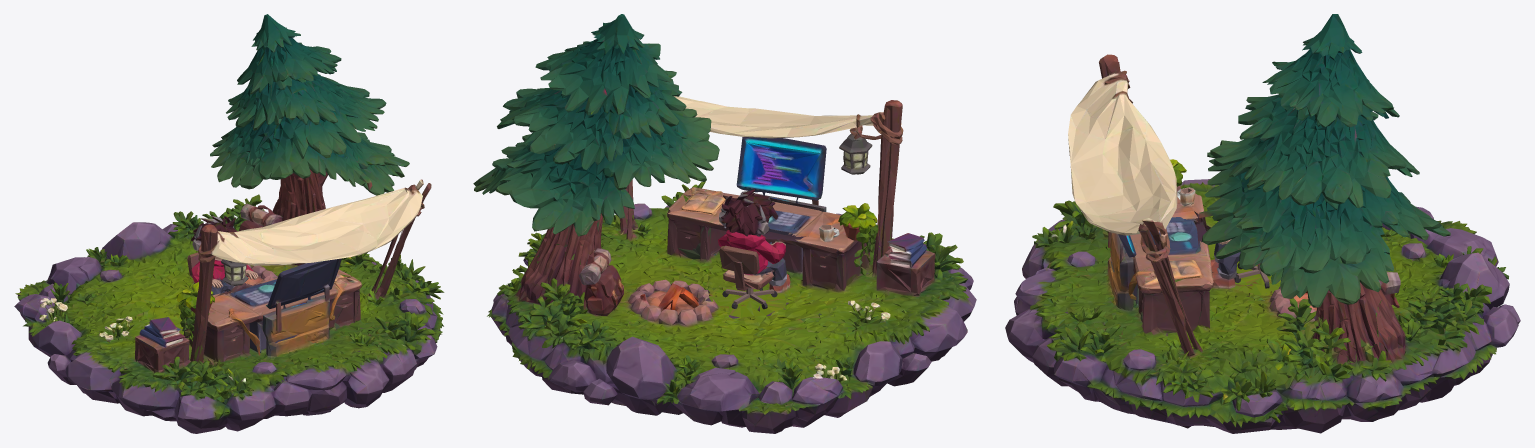
File: island-cuffs-restored.glb
3 views of the same model, side by side, from view 1: azimuth 30°, elevation 25°; view 2: azimuth 150°, elevation 25°; view 3: azimuth 270°, elevation 25° (orthographic). The views are drawn at different scales.
Visible parts, largest first — view 1: Anastasiia trial ground export, model_part4 export, model_part2 export, Anastasiia trial desk export, Anastasiia trial character export; view 2: Anastasiia trial ground export, model_part4 export, Anastasiia trial desk export, model_part2 export, Anastasiia trial character export, Anastasiia trial grass export, Anastasiia trial chair export; view 3: Anastasiia trial ground export, model_part4 export, model_part2 export, Anastasiia trial desk export, Anastasiia trial grass export.
Part boxes in pixels (x1,y1,x2,y2): Anastasiia trial ground export: (14,194,444,433); model_part4 export: (210,14,409,265); model_part2 export: (193,179,431,360); Anastasiia trial desk export: (176,258,361,362); Anastasiia trial character export: (187,215,253,293); Anastasiia trial ground export: (487,181,976,433); model_part4 export: (473,14,719,274); Anastasiia trial desk export: (667,137,878,289); model_part2 export: (620,96,903,277); Anastasiia trial character export: (718,189,785,290); Anastasiia trial grass export: (709,285,786,317); Anastasiia trial chair export: (722,287,777,309); Anastasiia trial ground export: (1005,179,1520,433); model_part4 export: (1199,14,1450,362); model_part2 export: (1068,54,1192,356); Anastasiia trial desk export: (1107,159,1213,328); Anastasiia trial grass export: (1230,264,1280,295).
Bounding box in the file's own units: 1.9 × 1.48 × 1.86.
Materials: 4 (1 with a texture image).
